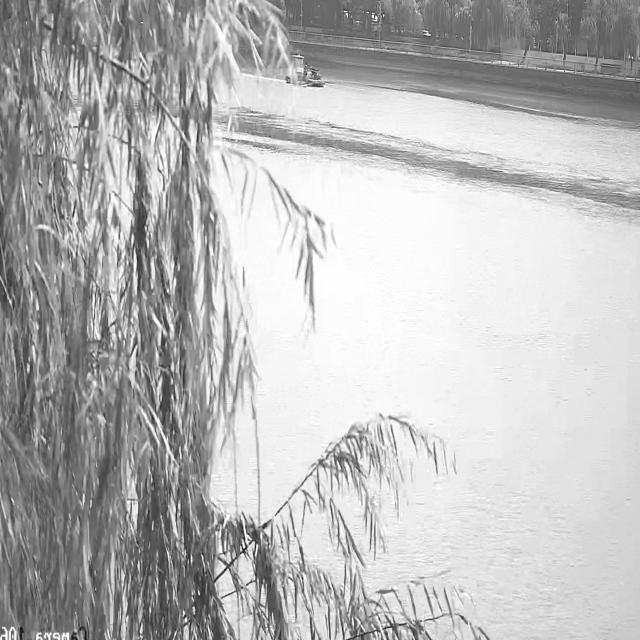ship: (286, 52, 324, 86)
